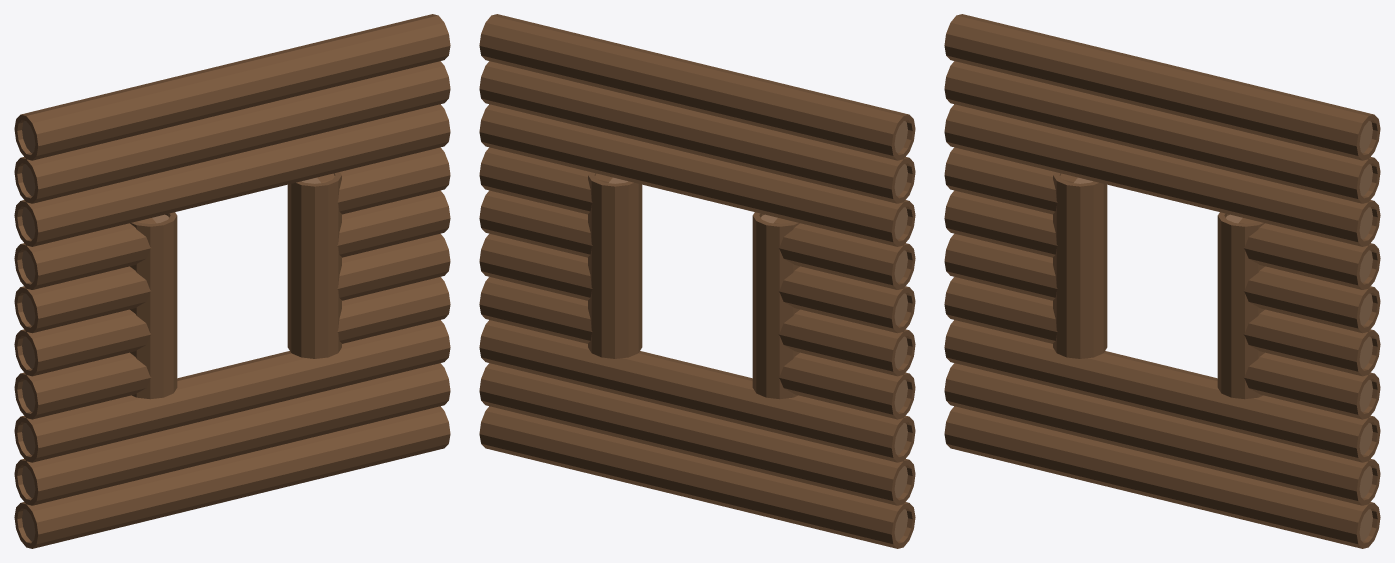
Rendered from mesh_wood_wall_window_small.fbx.
3 views of the same model, side by side, from view 1: azimuth 30°, elevation 25°; view 2: azimuth 150°, elevation 25°; view 3: azimuth 330°, elevation 25° (orthographic).
Visible parts, largest first — view 1: mesh_wood_wall_window_small; view 2: mesh_wood_wall_window_small; view 3: mesh_wood_wall_window_small.
Part boxes in pixels (<box>): mesh_wood_wall_window_small: <box>14,14,450,548</box>; mesh_wood_wall_window_small: <box>479,14,915,548</box>; mesh_wood_wall_window_small: <box>944,14,1380,548</box>.
Bounding box in the file's own units: 2 × 2 × 0.2272.
